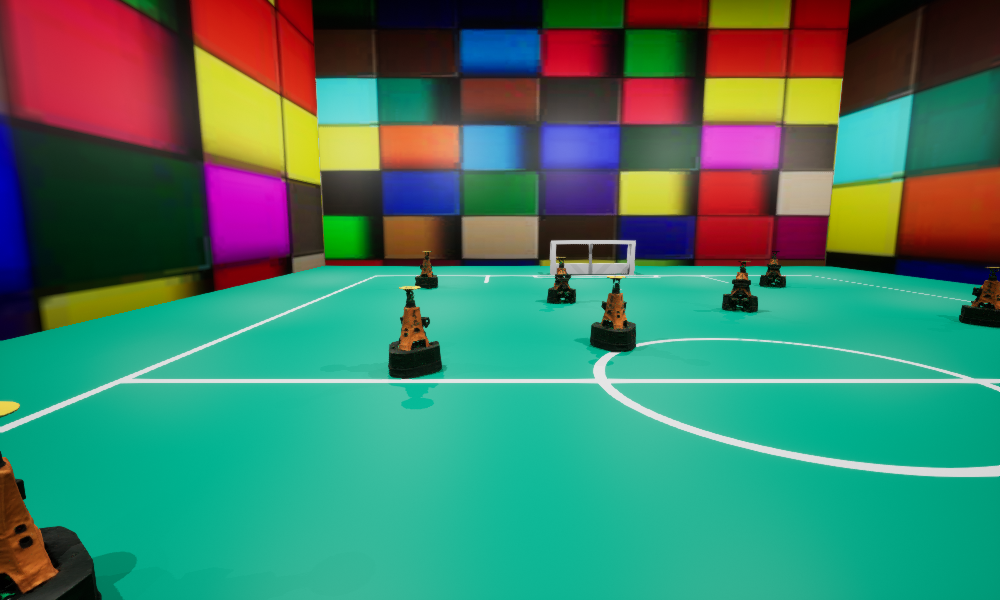o: (0, 401, 101, 599), (388, 286, 441, 378), (590, 276, 635, 351), (959, 267, 999, 327), (722, 261, 757, 311), (547, 257, 575, 303), (759, 251, 785, 286), (415, 251, 437, 288)
